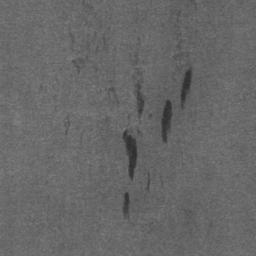Iron scale compression: (122, 129, 135, 179), (161, 101, 171, 142), (181, 70, 190, 106), (136, 83, 144, 123), (122, 193, 129, 220)
